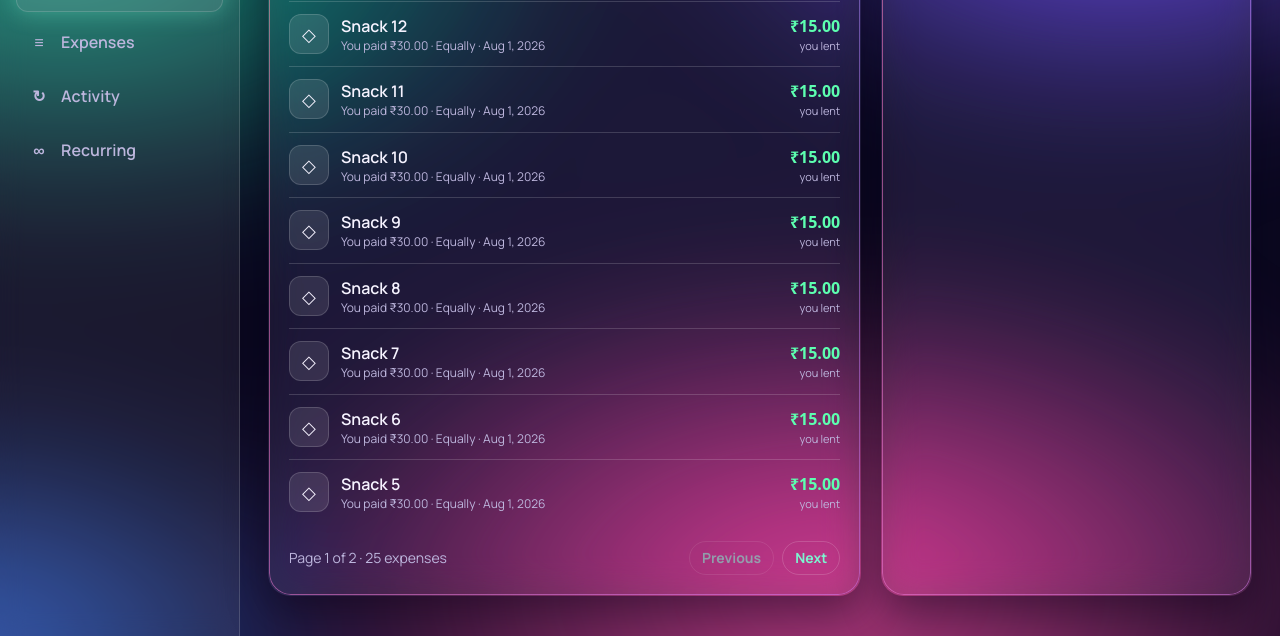
it: the expense list › pages through long lists
The width and height of the screenshot is (1280, 636).
(page scrolled)
expect the text "Page 1 of 2 · 25 expenses" is shown: met, box [289,548,447,568]
expect the button "Previous" is disabled: met, box [689,540,774,574]
Click the button "Next".
click(811, 558)  # box [782,540,840,574]
(page scrolled)
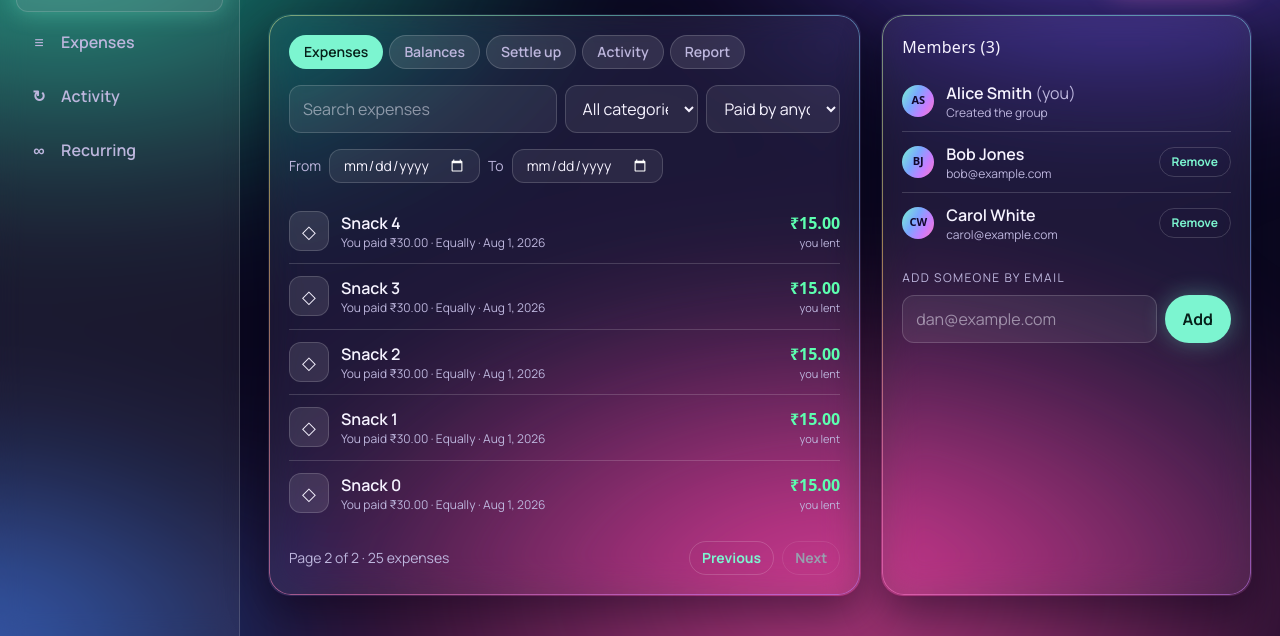
expect the text "Page 2 of 2 · 25 expenses" is shown: met, box [289,548,450,568]
expect the button "Next" is disabled: met, box [782,541,840,575]
